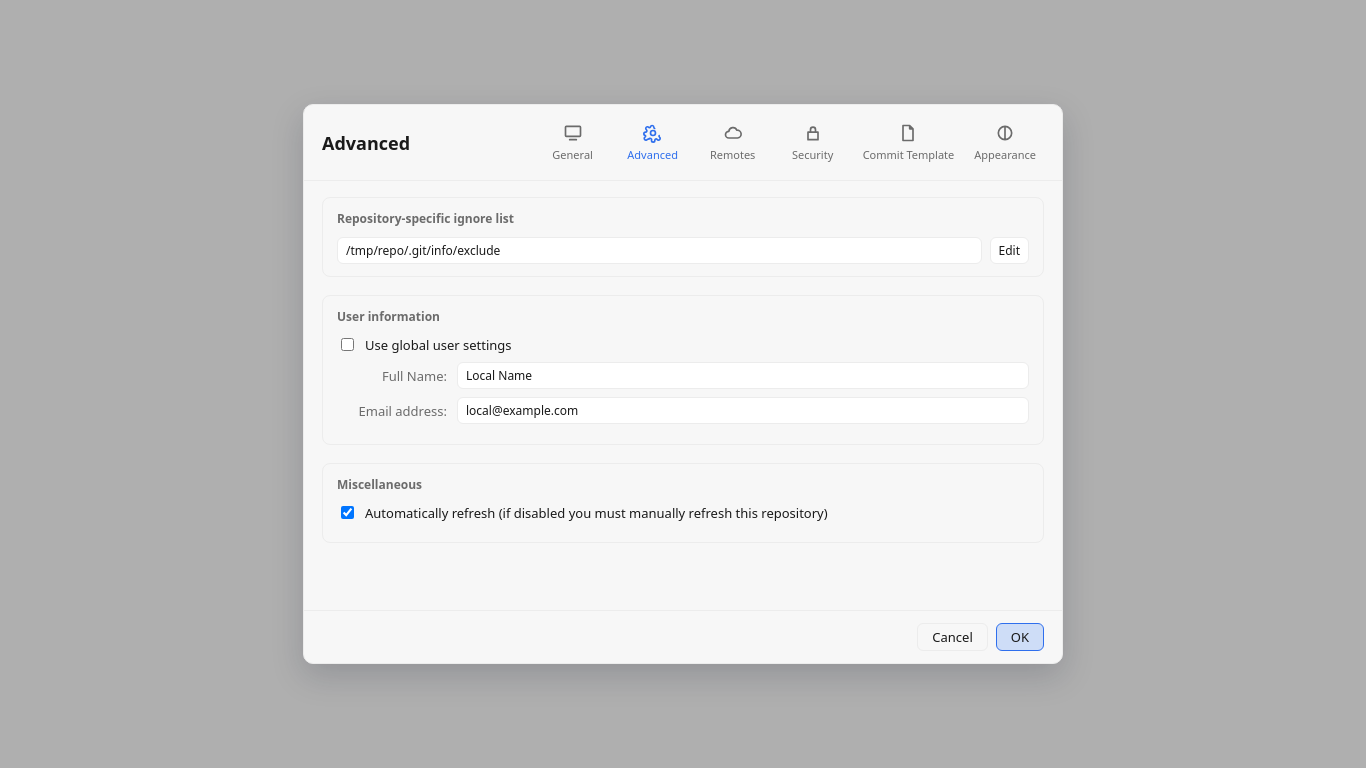
Test case: SettingsWindow › loads the commit template mode and disables the editor for None
The image size is (1366, 768).
Click the tab "Commit Template": {"x": 908, "y": 142} left=855, top=117, right=962, bottom=168
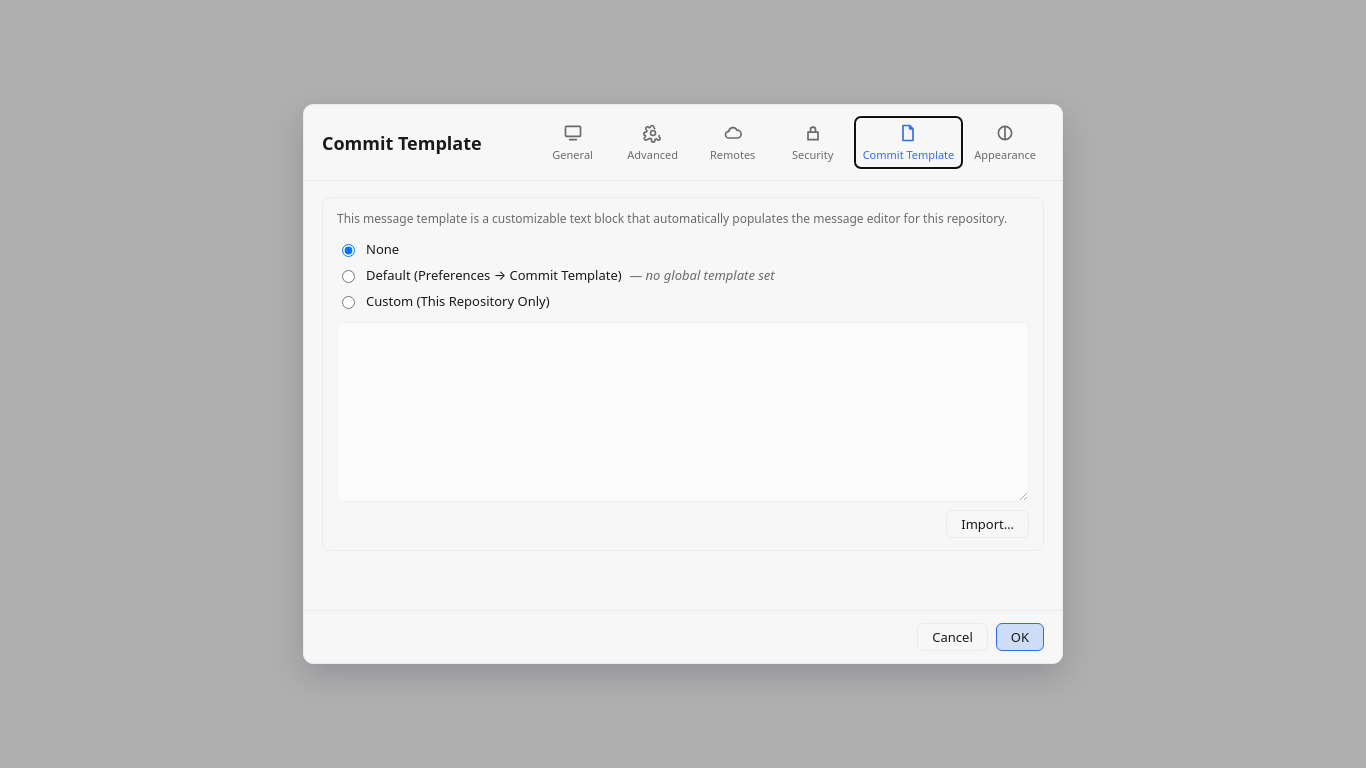
expect the radio button labelled "None" is checked: met, box left=342, top=244, right=355, bottom=257
expect the text box named "Commit template" is disabled: met, box left=337, top=322, right=1029, bottom=502
